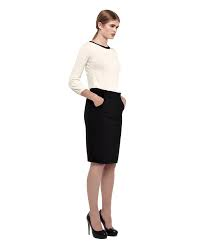F_tailored skirt: (81, 87, 130, 164)
